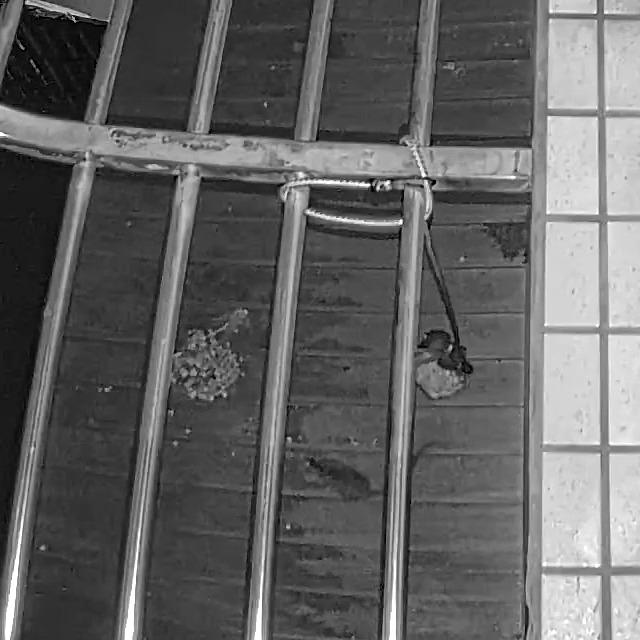rat: (302, 439, 452, 507)
